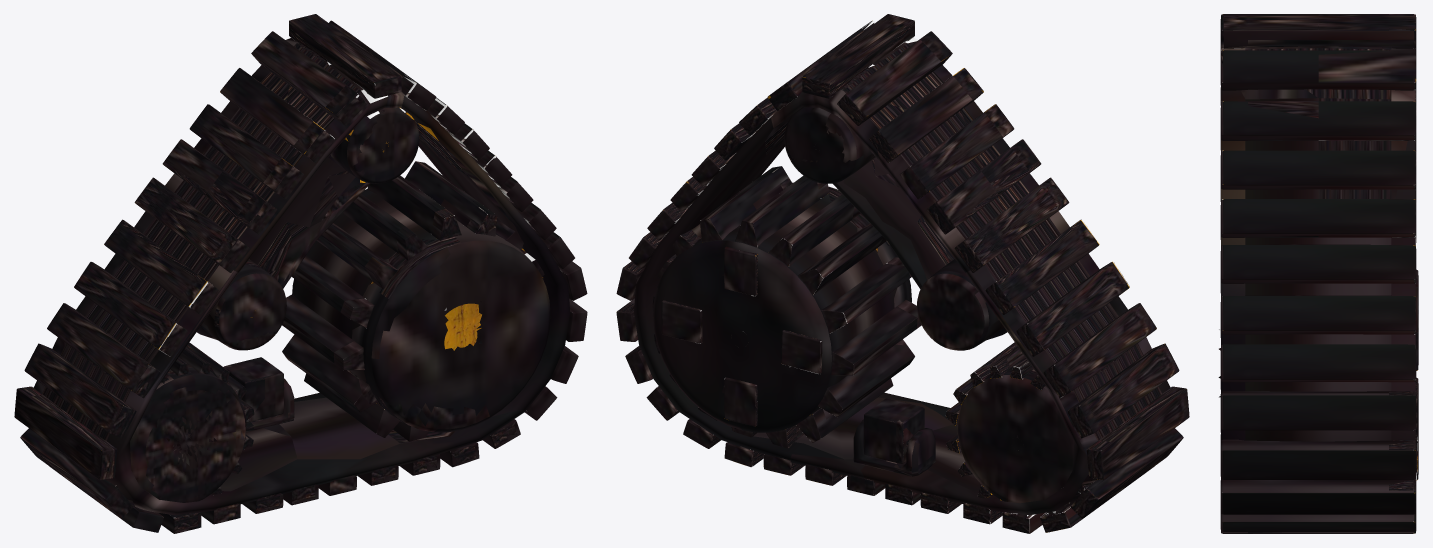
The model's file is Pie-Derecho.fbx.
The picture shows the model from 3 angles, left to right: view 1: azimuth 30°, elevation 25°; view 2: azimuth 150°, elevation 25°; view 3: azimuth 270°, elevation 25°; orthographic projection. The views are drawn at different scales.
Parts seen in each view (by area): view 1: Wall-E.001; view 2: Wall-E.001; view 3: Wall-E.001.
Part boxes in pixels (left/top/right/bottom): Wall-E.001: left=14, top=14, right=587, bottom=533; Wall-E.001: left=616, top=14, right=1189, bottom=533; Wall-E.001: left=1218, top=14, right=1418, bottom=533.
Bounding box in the file's own units: 1221 × 966 × 384.
